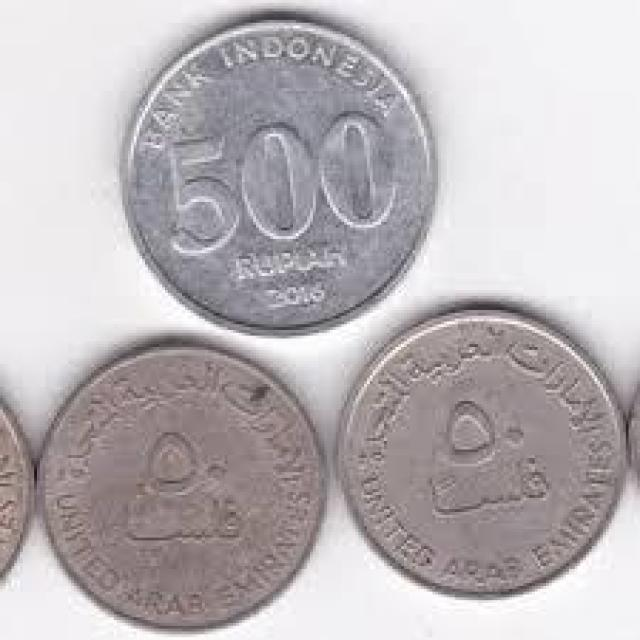500-silver: (125, 8, 441, 346)
